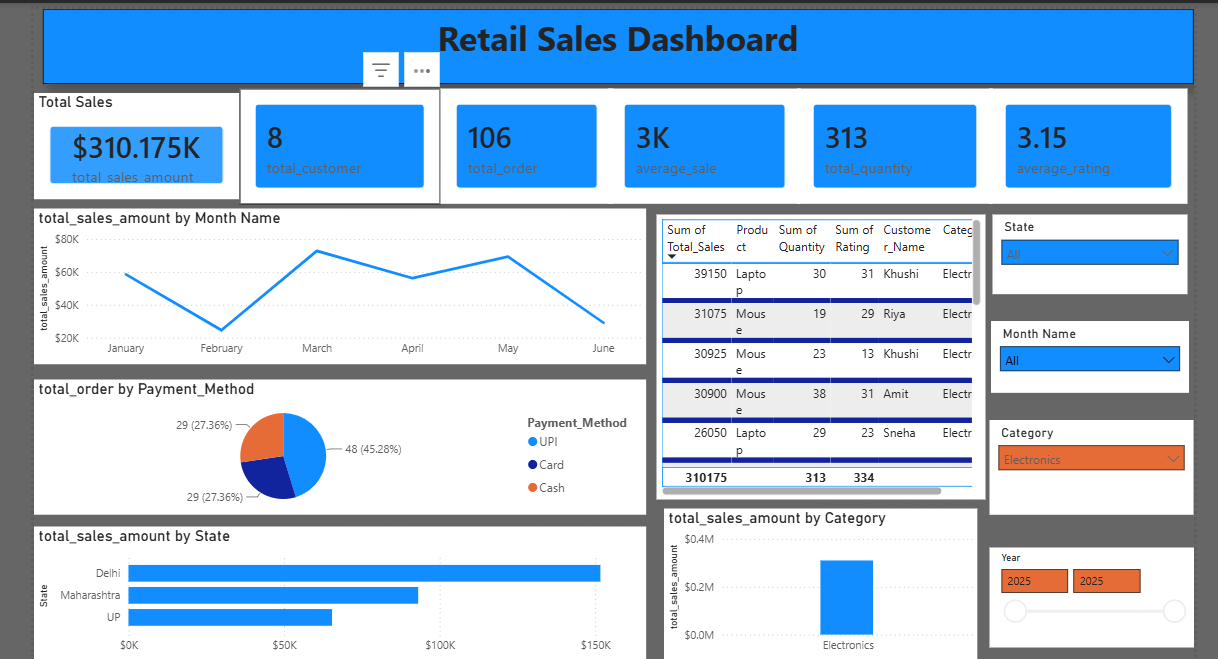

This screenshot's page, from the dashboard's own definition file:
{"tool":"powerbi","page":{"name":"dashboard","canvas":[1280,720],"ordinal":0},"visuals":[{"type":"textbox","box":[9.9,0,1270.5,82.8],"z":0},{"type":"cardVisual","title":"Total Sales","fields":{"Data":["fact_table.total_sales_amount"]},"box":[0,92.8,226.9,117.6],"z":1},{"type":"cardVisual","fields":{"Data":["dim_customer.total_customer"]},"box":[226.9,87.8,222,127.5],"z":2},{"type":"cardVisual","fields":{"Data":["dim_customer.total_quantity"]},"box":[843.1,87.8,215.3,127.5],"z":3},{"type":"cardVisual","fields":{"Data":["dim_customer.total_order"]},"box":[448.9,87.8,190.5,127.5],"z":4},{"type":"cardVisual","fields":{"Data":["dim_customer.average_rating"]},"box":[1055.2,87.8,218.7,127.5],"z":5},{"type":"cardVisual","fields":{"Data":["dim_customer.average_sale"]},"box":[634.4,87.8,212,127.5],"z":6},{"type":"clusteredColumnChart","fields":{"Category":["dim_product.Category"],"Y":["fact_table.total_sales_amount"]},"box":[695.7,551.6,346.2,169],"z":8},{"type":"barChart","fields":{"Category":["fact_table.State"],"Y":["fact_table.total_sales_amount"]},"box":[0,571.5,675.8,149.1],"z":9},{"type":"pieChart","fields":{"Category":["fact_table.Payment_Method"],"Y":["dim_customer.total_order"]},"box":[0,409.2,675.8,149.1],"z":10},{"type":"tableEx","fields":{"Values":["Sum(fact_table.Total_Sales)","fact_table.Product","Sum(fact_table.Quantity)","Sum(fact_table.Rating)","fact_table.Customer_Name","fact_table.Category"]},"box":[687.4,226.9,362.8,314.7],"z":11},{"type":"slicer","fields":{"Values":["dim_date.Month Name"]},"box":[1056.8,344.5,218.7,79.5],"z":12},{"type":"lineChart","fields":{"Category":["dim_date.Month Name"],"Y":["fact_table.total_sales_amount"]},"box":[0,220.3,675.8,172.3],"z":13},{"type":"slicer","fields":{"Values":["dim_product.Category"]},"box":[1055.2,453.9,225.3,104.4],"z":14},{"type":"slicer","fields":{"Values":["dim_date.Year"]},"box":[1055.2,594.7,225.3,109.3],"z":15},{"type":"slicer","fields":{"Values":["fact_table.State"]},"box":[1058.5,226.9,215.3,87.8],"z":16}]}

Visuals, with their boxes in screenshot pixels (x1, y1, x2, y2):
textbox: {"left": 41, "top": 6, "right": 1189, "bottom": 81}
"Total Sales" cardVisual: {"left": 32, "top": 90, "right": 237, "bottom": 196}
cardVisual - dim_customer.total_customer: {"left": 237, "top": 86, "right": 437, "bottom": 201}
cardVisual - dim_customer.total_quantity: {"left": 794, "top": 86, "right": 988, "bottom": 201}
cardVisual - dim_customer.total_order: {"left": 437, "top": 86, "right": 610, "bottom": 201}
cardVisual - dim_customer.average_rating: {"left": 985, "top": 86, "right": 1183, "bottom": 201}
cardVisual - dim_customer.average_sale: {"left": 605, "top": 86, "right": 797, "bottom": 201}
clusteredColumnChart - dim_product.Category x fact_table.total_sales_amount: {"left": 660, "top": 505, "right": 973, "bottom": 658}
barChart - fact_table.State x fact_table.total_sales_amount: {"left": 32, "top": 523, "right": 642, "bottom": 658}
pieChart - fact_table.Payment_Method x dim_customer.total_order: {"left": 32, "top": 376, "right": 642, "bottom": 511}
tableEx - Sum(fact_table.Total_Sales) x fact_table.Product: {"left": 653, "top": 211, "right": 981, "bottom": 496}
slicer - dim_date.Month Name: {"left": 987, "top": 318, "right": 1184, "bottom": 389}
lineChart - dim_date.Month Name x fact_table.total_sales_amount: {"left": 32, "top": 205, "right": 642, "bottom": 361}
slicer - dim_product.Category: {"left": 985, "top": 417, "right": 1189, "bottom": 511}
slicer - dim_date.Year: {"left": 985, "top": 544, "right": 1189, "bottom": 643}
slicer - fact_table.State: {"left": 988, "top": 211, "right": 1183, "bottom": 291}
